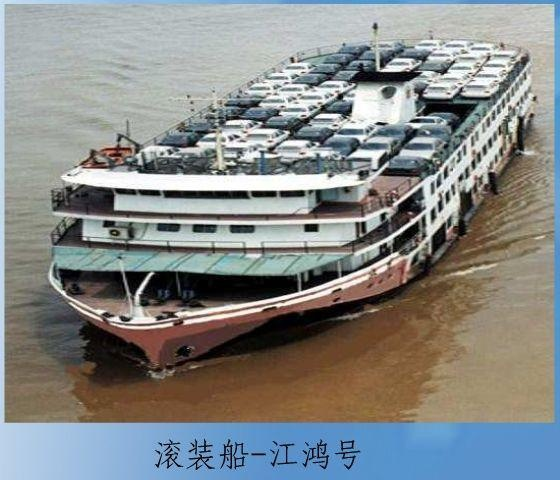Cargoship: (41, 17, 535, 375)
